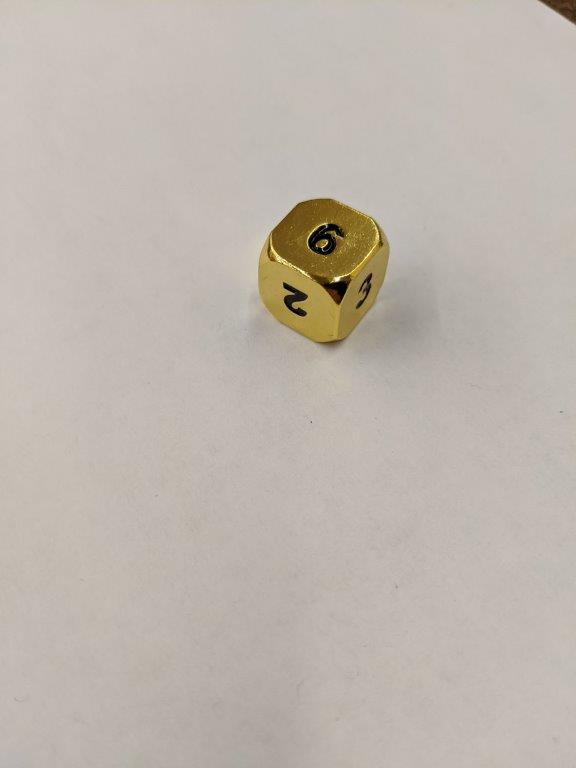d6-6: (256, 193, 388, 350)
